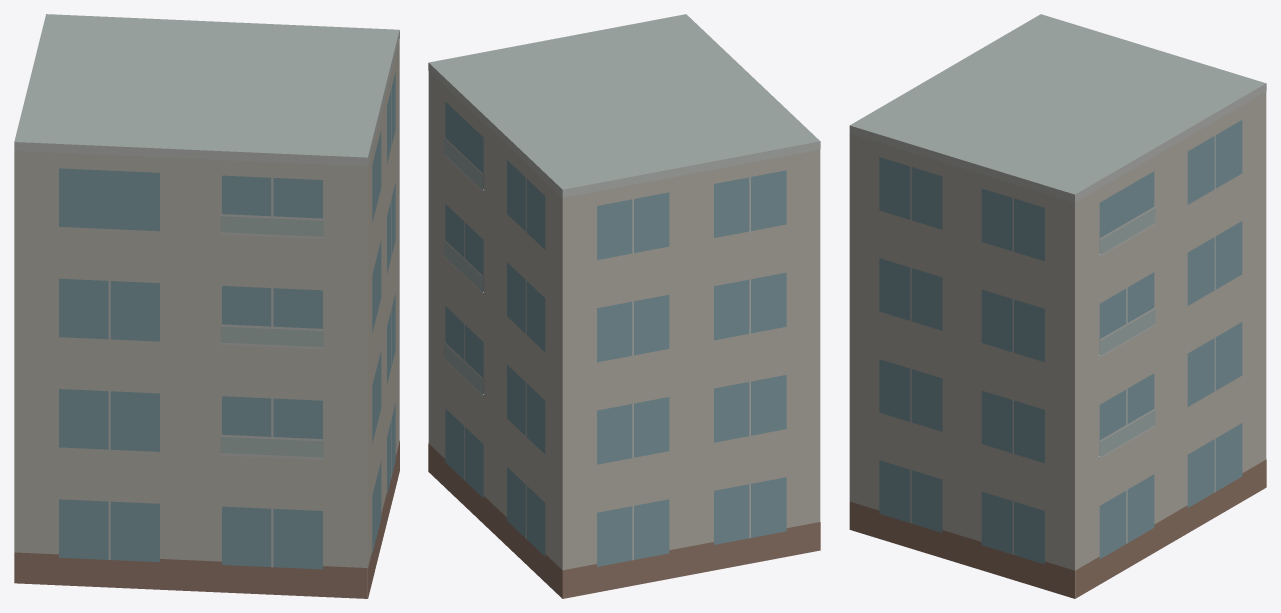
File: residential-b7758dd6-af0a-4b29-a49d-868aca7b4f3e.glb
The picture shows the model from 3 angles, left to right: view 1: azimuth 30°, elevation 25°; view 2: azimuth 150°, elevation 25°; view 3: azimuth 270°, elevation 25°; orthographic projection. The views are drawn at different scales.
Parts seen in each view (by area): view 1: residential-b7758dd6-af0a-4b29-a49d-868aca7b4f3e.tmp; view 2: residential-b7758dd6-af0a-4b29-a49d-868aca7b4f3e.tmp; view 3: residential-b7758dd6-af0a-4b29-a49d-868aca7b4f3e.tmp.
Boxes of the visible parts, left/top/right/bottom form: residential-b7758dd6-af0a-4b29-a49d-868aca7b4f3e.tmp: left=14, top=14, right=399, bottom=598; residential-b7758dd6-af0a-4b29-a49d-868aca7b4f3e.tmp: left=428, top=14, right=820, bottom=598; residential-b7758dd6-af0a-4b29-a49d-868aca7b4f3e.tmp: left=849, top=14, right=1266, bottom=598.
Size of the model in its own units: 11.7 by 12.2 by 11.41.
